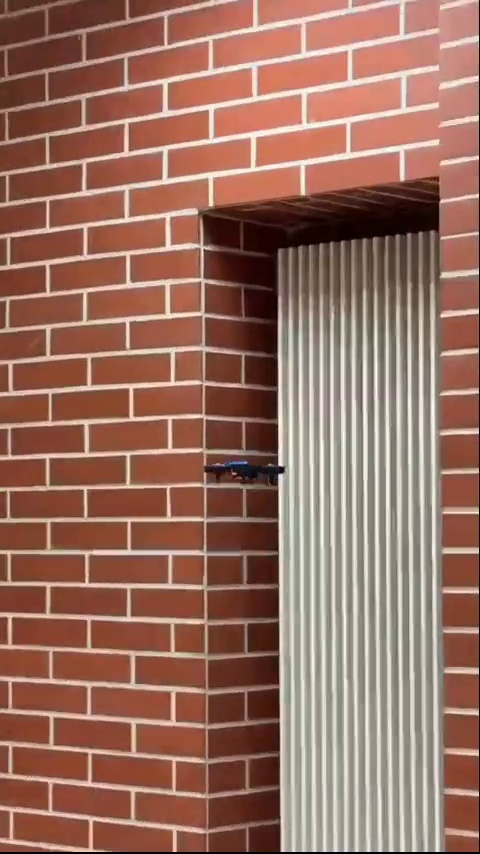drone: (201, 452, 290, 487)
